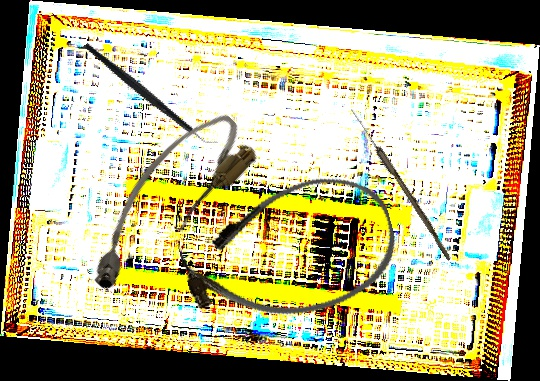Cannula: (169, 160, 409, 343), (62, 99, 266, 303)
Chopper: (82, 11, 220, 177)
Surgical Spoon: (347, 107, 455, 261)
